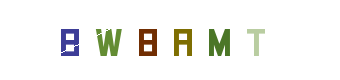8: (30, 0, 110, 80), (125, 0, 205, 80)
A: (131, 0, 211, 80)
M: (142, 0, 222, 80)
T: (164, 0, 244, 80)
W: (108, 0, 188, 80)
